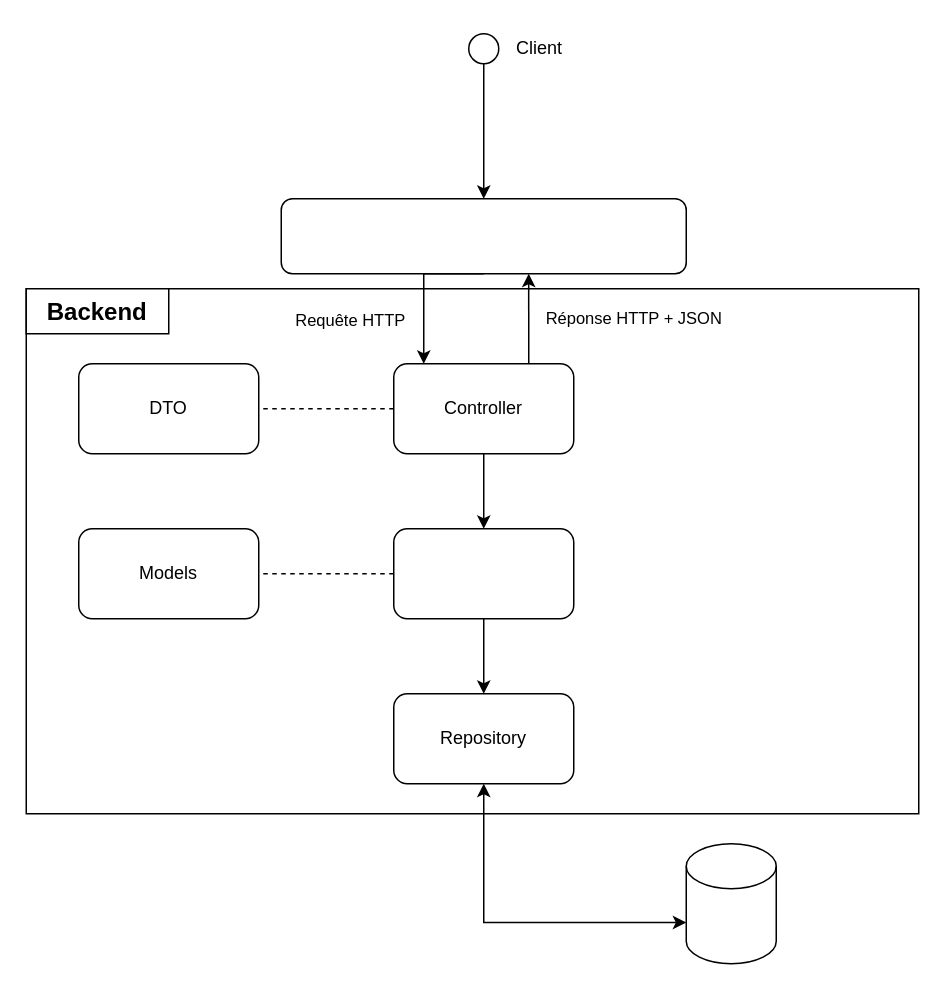
Some shapes in this 945 by 990 pixel diagram are drawn without their labels. Each missing label, with the box of its shape:
API: (280, 197, 686, 274)
Database: (685, 842, 776, 964)
Services: (392, 527, 574, 619)
